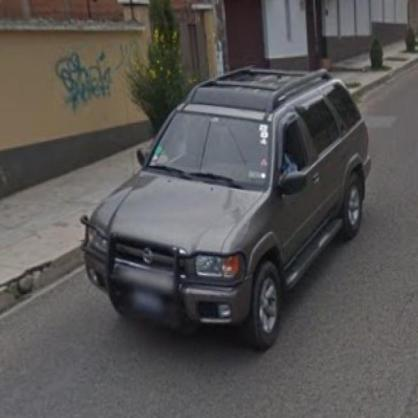car: (83, 71, 374, 354)
